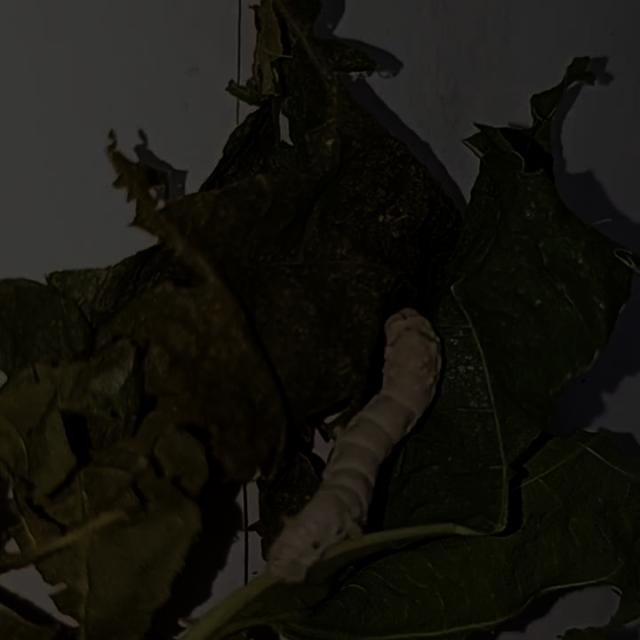Healthy: (232, 282, 478, 605)
